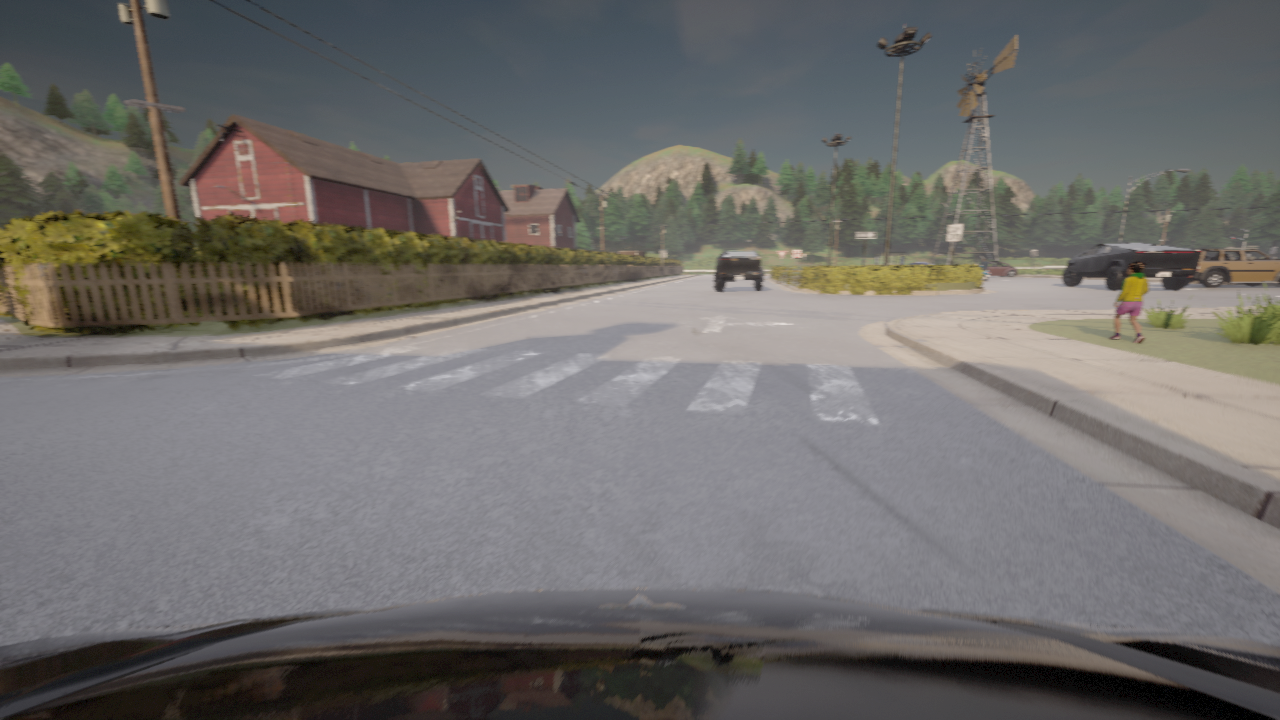cyclist: (0, 588, 1279, 719), (1061, 243, 1202, 290), (1185, 246, 1279, 287), (714, 250, 764, 291), (988, 261, 1018, 276), (980, 265, 989, 280), (908, 262, 932, 264)
pedestrian: (1110, 261, 1148, 342)
